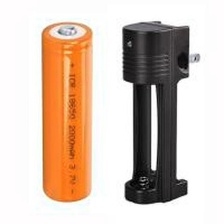battery: (37, 18, 97, 206)
